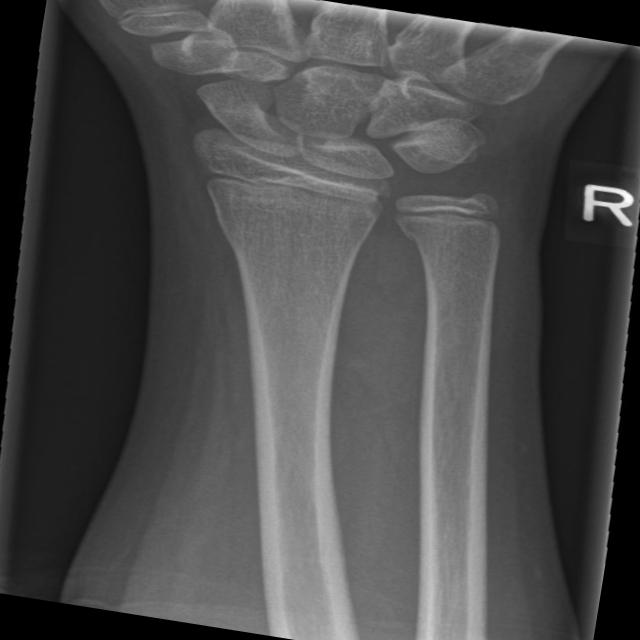fracture: (188, 147, 398, 230), (362, 184, 518, 250)
